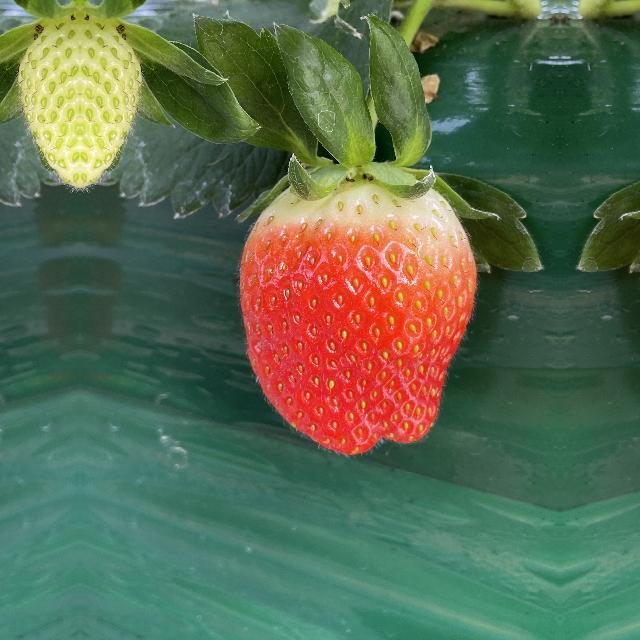Health_100: (231, 165, 483, 457)
